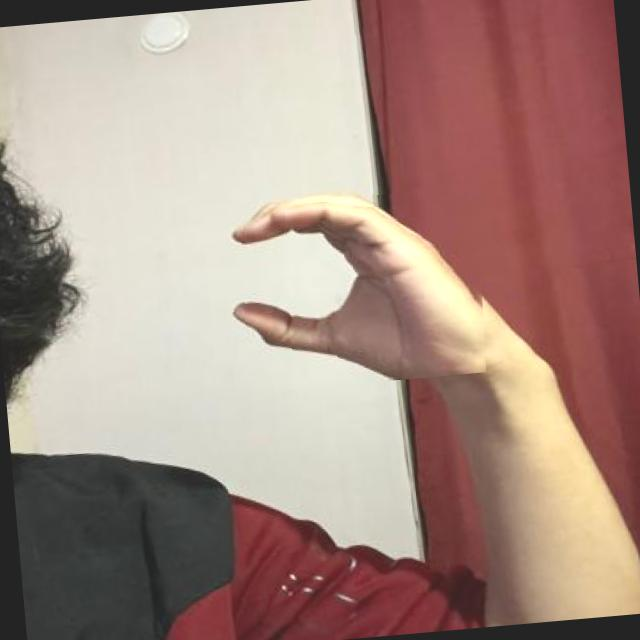C: (215, 168, 493, 394)
